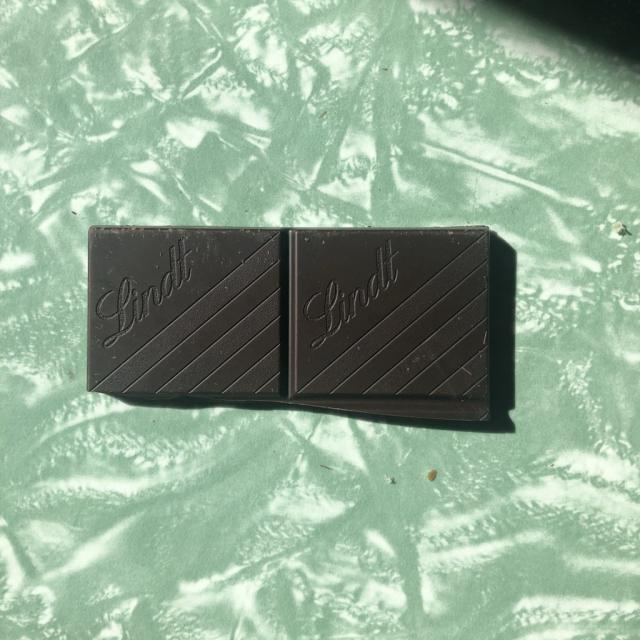chocolate: (86, 222, 508, 426)
